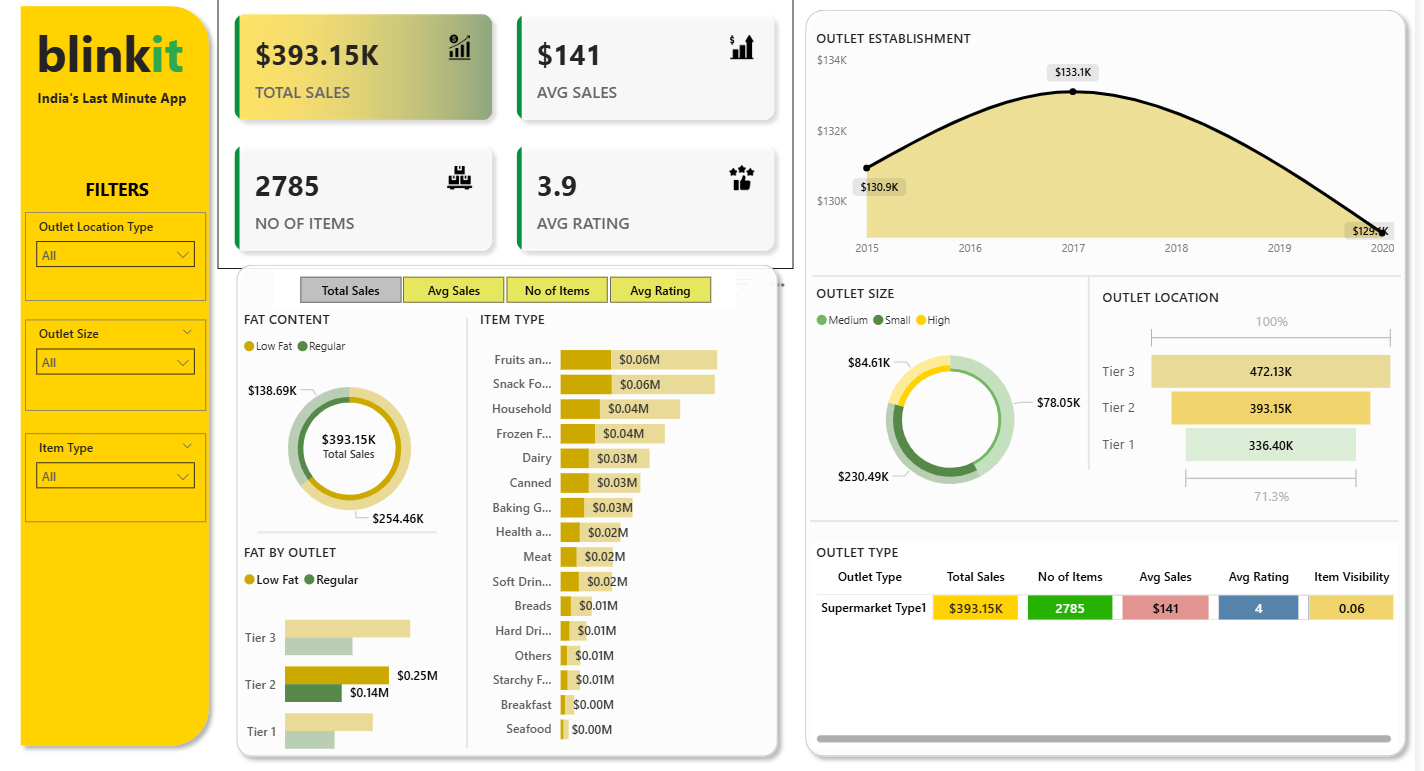

The page's visual inventory and layout, read from the dashboard file:
{"tool":"powerbi","page":{"name":"Page 1","canvas":[1400,800],"ordinal":0},"visuals":[{"type":"shape","box":[10.9,15,204.5,749.8],"z":0},{"type":"textbox","box":[31.4,32.7,165,83.2],"z":1000},{"type":"textbox","box":[28.9,98.7,167.1,34.2],"z":2000},{"type":"cardVisual","fields":{"Data":["BlinkIT Grocery Data.Total Sales","BlinkIT Grocery Data.Avg Sales","BlinkIT Grocery Data.No of Items","BlinkIT Grocery Data.Avg Rating"]},"box":[215.4,15,569.9,269.9],"z":3000},{"type":"shape","box":[225,271.3,553.5,504.4],"z":4000},{"type":"donutChart","title":"FAT CONTENT","fields":{"Y":["BlinkIT Grocery Data.Total Sales"],"Category":["BlinkIT Grocery Data.Item Fat Content"]},"box":[235.9,324.5,219.5,230.4],"z":5000},{"type":"slicer","fields":{"Values":["Metrics.Metrics"]},"box":[271.3,284.9,456.7,39.5],"z":6000},{"type":"cardVisual","fields":{"Data":["BlinkIT Grocery Data.Total Sales"]},"box":[298.6,425.4,94.1,62.7],"z":7000},{"type":"clusteredBarChart","title":"FAT BY OUTLET","fields":{"Y":["BlinkIT Grocery Data.Total Sales"],"Category":["BlinkIT Grocery Data.Outlet Location Type"],"Series":["BlinkIT Grocery Data.Item Fat Content"]},"box":[236.8,553.9,219.7,230.3],"z":8000},{"type":"shape","box":[254.9,534.4,177.2,20.5],"z":9000},{"type":"shape","box":[454,332.7,16.4,425.4],"z":10000},{"type":"barChart","title":"ITEM TYPE","fields":{"Y":["BlinkIT Grocery Data.Total Sales"],"Category":["BlinkIT Grocery Data.Item Type"]},"box":[470.4,324.5,286.3,440.4],"z":11000},{"type":"shape","box":[788,19.1,612.1,756.7],"z":12000},{"type":"lineChart","title":"OUTLET ESTABLISHMENT","fields":{"Y":["BlinkIT Grocery Data.Total Sales"],"Category":["BlinkIT Grocery Data.Outlet Establishment Year"]},"box":[803,46.4,582.1,234.5],"z":13000},{"type":"shape","box":[804.4,280.8,582.1,20.5],"z":14000},{"type":"donutChart","title":"OUTLET SIZE","fields":{"Y":["BlinkIT Grocery Data.Total Sales"],"Category":["BlinkIT Grocery Data.Outlet Size"]},"box":[803,298.6,275.4,225],"z":15000},{"type":"shape","box":[1070.2,290.4,15,192.2],"z":16000},{"type":"funnel","title":"OUTLET LOCATION","fields":{"Y":["Sum(BlinkIT Grocery Data.Sales)"],"Category":["BlinkIT Grocery Data.Outlet Location Type"]},"box":[1086.6,301.3,299.9,222.2],"z":17000},{"type":"shape","box":[801.6,523.5,582.1,20.5],"z":18000},{"type":"pivotTable","title":"OUTLET TYPE","fields":{"Rows":["BlinkIT Grocery Data.Outlet Type"],"Values":["BlinkIT Grocery Data.Total Sales","BlinkIT Grocery Data.No of Items","BlinkIT Grocery Data.Avg Sales","BlinkIT Grocery Data.Avg Rating","Avg(BlinkIT Grocery Data.Item Visibility)"]},"box":[803,553.5,580.8,204.5],"z":19000},{"type":"slicer","fields":{"Values":["BlinkIT Grocery Data.Outlet Location Type"]},"box":[25,227.6,178.9,88.2],"z":20000},{"type":"slicer","fields":{"Values":["BlinkIT Grocery Data.Outlet Size"]},"box":[25,334.2,178.9,90.8],"z":21000},{"type":"slicer","fields":{"Values":["BlinkIT Grocery Data.Item Type"]},"box":[25,446.1,178.9,88.2],"z":22000},{"type":"shape","title":"FILTERS","box":[72.4,193.4,85.5,25],"z":23000}]}

Visuals, with their boxes on the page's 1400x800 design canvas (x1, y1, x2, y2). These are canvas units, not pixel positions in the 1424x771 screenshot, which may show the page scaled, cropped or inside an application window:
shape: 11/15/215/765
textbox: 31/33/196/116
textbox: 29/99/196/133
cardVisual - BlinkIT Grocery Data.Total Sales x BlinkIT Grocery Data.Avg Sales: 215/15/785/285
shape: 225/271/778/776
"FAT CONTENT" donutChart: 236/324/455/555
slicer - Metrics.Metrics: 271/285/728/324
cardVisual - BlinkIT Grocery Data.Total Sales: 299/425/393/488
"FAT BY OUTLET" clusteredBarChart: 237/554/456/784
shape: 255/534/432/555
shape: 454/333/470/758
"ITEM TYPE" barChart: 470/324/757/765
shape: 788/19/1400/776
"OUTLET ESTABLISHMENT" lineChart: 803/46/1385/281
shape: 804/281/1386/301
"OUTLET SIZE" donutChart: 803/299/1078/524
shape: 1070/290/1085/483
"OUTLET LOCATION" funnel: 1087/301/1386/524
shape: 802/524/1384/544
"OUTLET TYPE" pivotTable: 803/554/1384/758
slicer - BlinkIT Grocery Data.Outlet Location Type: 25/228/204/316
slicer - BlinkIT Grocery Data.Outlet Size: 25/334/204/425
slicer - BlinkIT Grocery Data.Item Type: 25/446/204/534
"FILTERS" shape: 72/193/158/218
